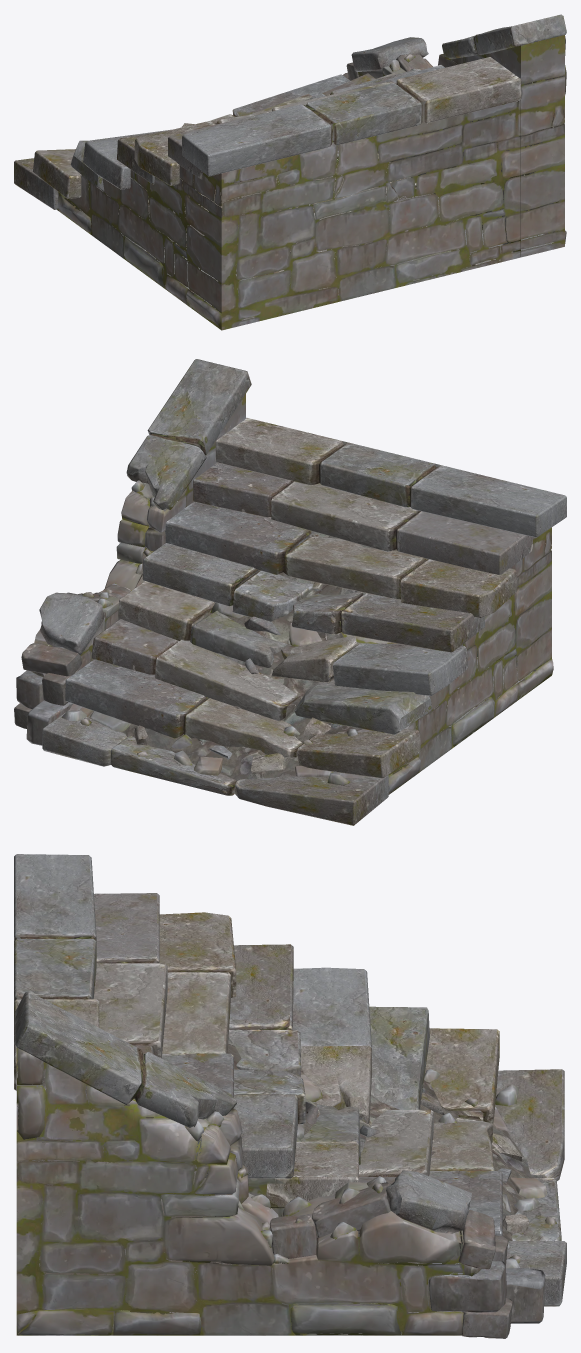
3 renders of one model, top to bottom at view 1: azimuth 30°, elevation 25°; view 2: azimuth 150°, elevation 25°; view 3: azimuth 270°, elevation 25°, orthographic. The views are drawn at different scales.
Parts seen in each view (by area): view 1: SM_Castle_Steps_4x2_01_v2_DMG_LOD0; view 2: SM_Castle_Steps_4x2_01_v2_DMG_LOD0; view 3: SM_Castle_Steps_4x2_01_v2_DMG_LOD0.
Boxes of the visible parts, x1,y1,x2,y2 form: SM_Castle_Steps_4x2_01_v2_DMG_LOD0: (14, 14, 566, 330); SM_Castle_Steps_4x2_01_v2_DMG_LOD0: (14, 359, 566, 825); SM_Castle_Steps_4x2_01_v2_DMG_LOD0: (14, 854, 566, 1338).
Size of the model in its own units: 4.27 by 2.6 by 4.1.
4 materials, 4 textured.
